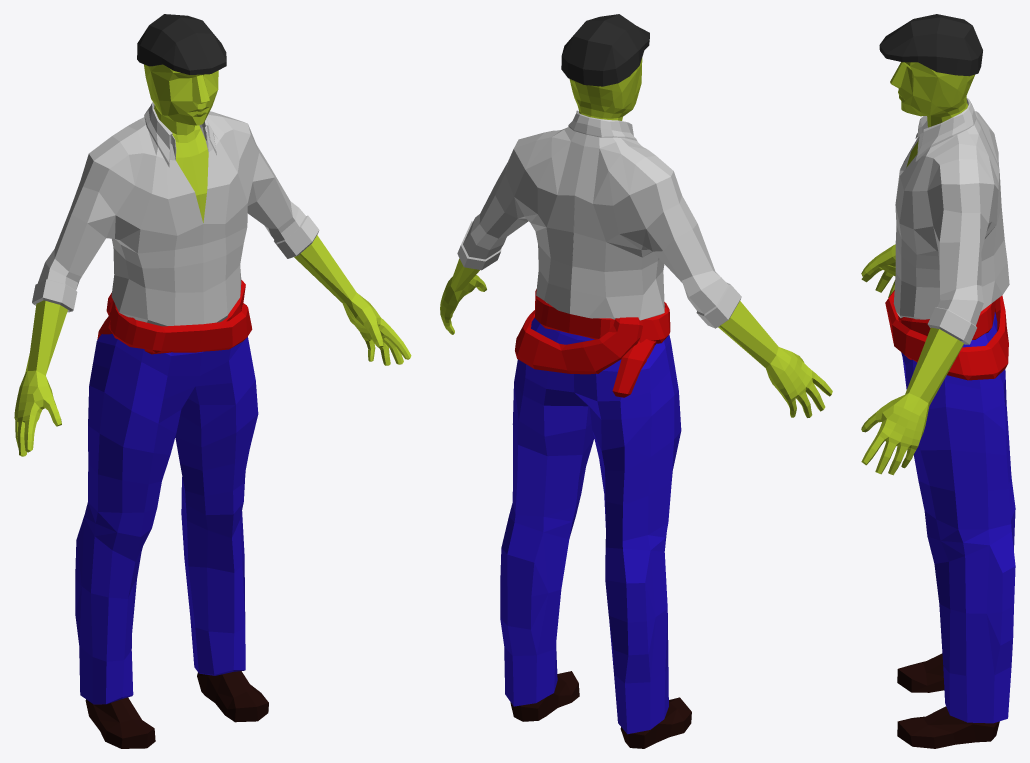
The model's file is villager.obj.
The picture shows the model from 3 angles, left to right: view 1: azimuth 30°, elevation 25°; view 2: azimuth 150°, elevation 25°; view 3: azimuth 270°, elevation 25°; orthographic projection.
Parts seen in each view (by area): view 1: Villager2; view 2: Villager2; view 3: Villager2.
Part boxes in pixels (x1,y1,x2,y2): Villager2: [14, 14, 411, 748]; Villager2: [440, 14, 832, 748]; Villager2: [861, 14, 1015, 748].
Size of the model in its own units: 1.1 by 1.92 by 0.3866.
